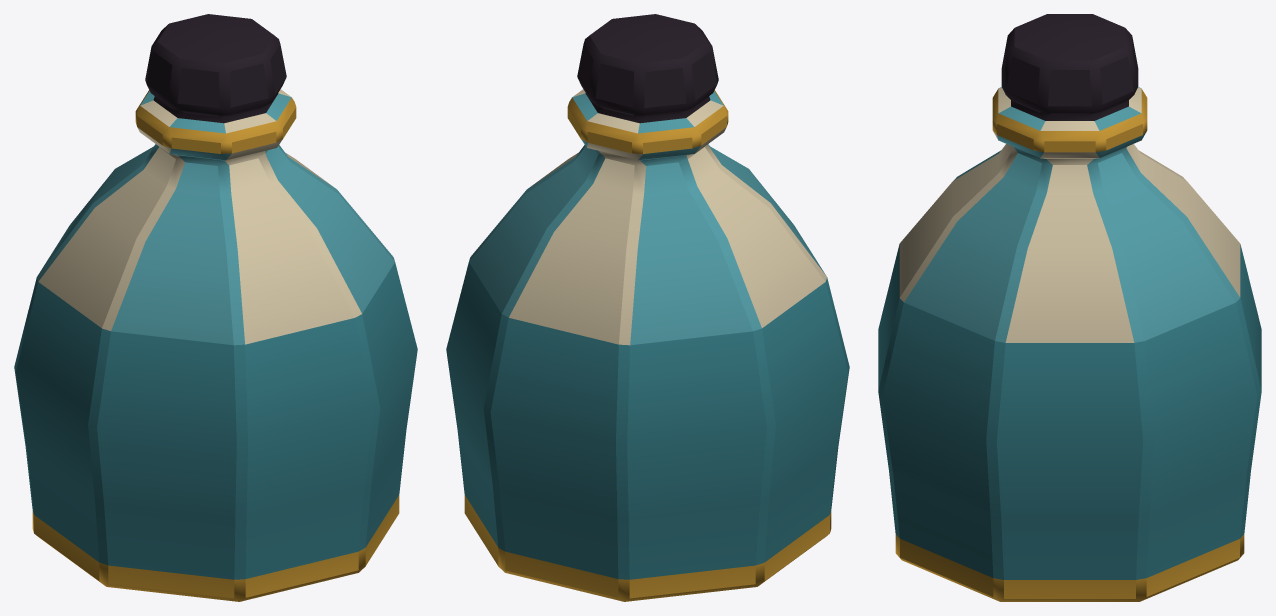
The model's file is Bottle_11.glb.
3 views of the same model, side by side, from view 1: azimuth 30°, elevation 25°; view 2: azimuth 150°, elevation 25°; view 3: azimuth 270°, elevation 25° (orthographic).
Parts seen in each view (by area): view 1: Bottle_11; view 2: Bottle_11; view 3: Bottle_11.
Boxes of the visible parts, bbox=[...] form: Bottle_11: bbox=[14, 14, 417, 601]; Bottle_11: bbox=[446, 14, 849, 601]; Bottle_11: bbox=[878, 14, 1261, 601].
Bounding box in the file's own units: 1.56 × 2.25 × 1.56.
